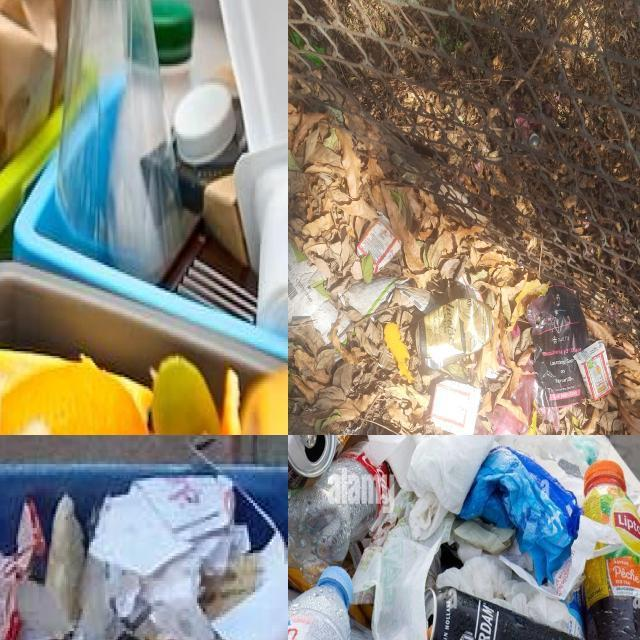Garbage: (288, 104, 640, 435), (288, 435, 640, 640), (0, 472, 288, 640)
Plastic: (175, 85, 235, 165)
Plastic_Bag: (366, 435, 588, 514), (460, 446, 581, 583), (288, 239, 338, 341), (341, 277, 438, 316), (511, 358, 559, 431), (475, 404, 528, 435), (311, 300, 339, 343), (338, 314, 350, 337)
Plastic_Container: (221, 0, 288, 333)
Plastic_bottle: (57, 0, 183, 278), (288, 450, 389, 579), (583, 461, 640, 640), (150, 0, 194, 124)
Plastic_wraper: (0, 501, 45, 640)
Tetrapack: (430, 379, 481, 435), (356, 214, 402, 273), (574, 339, 613, 400)
can: (425, 587, 585, 640), (416, 298, 494, 371), (288, 435, 336, 488)
